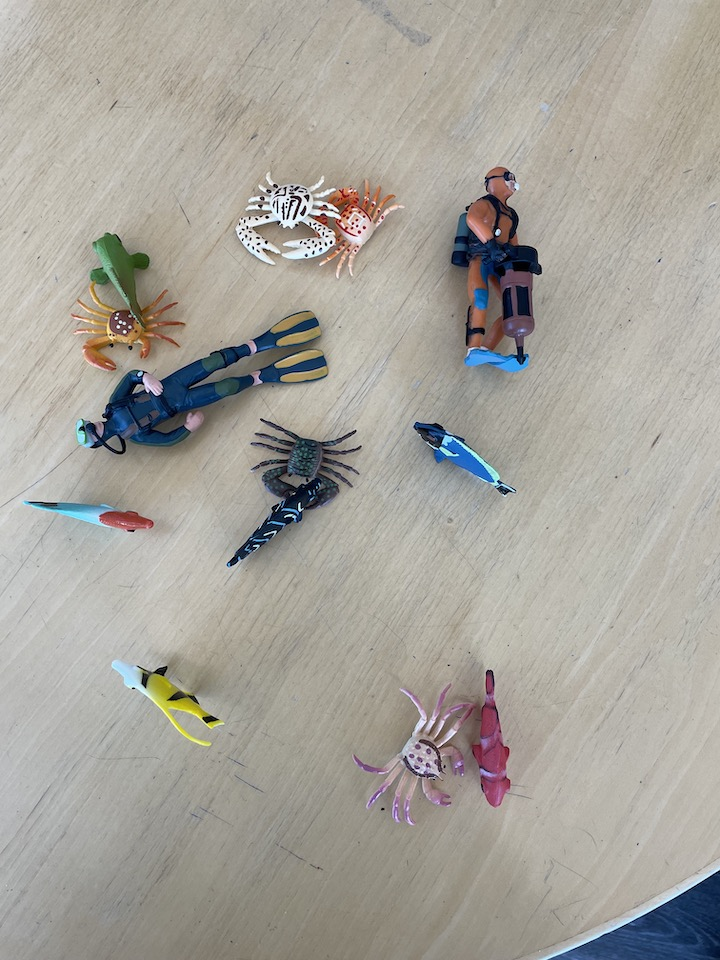crab: (350, 681, 480, 830), (246, 415, 362, 508), (302, 177, 404, 280), (236, 169, 337, 270), (72, 286, 190, 371)
danger: (108, 651, 227, 750)
diver: (73, 306, 330, 457), (452, 165, 545, 377)
fish: (225, 477, 330, 570), (409, 418, 521, 501), (89, 229, 161, 339), (467, 665, 514, 808), (20, 492, 159, 536)
